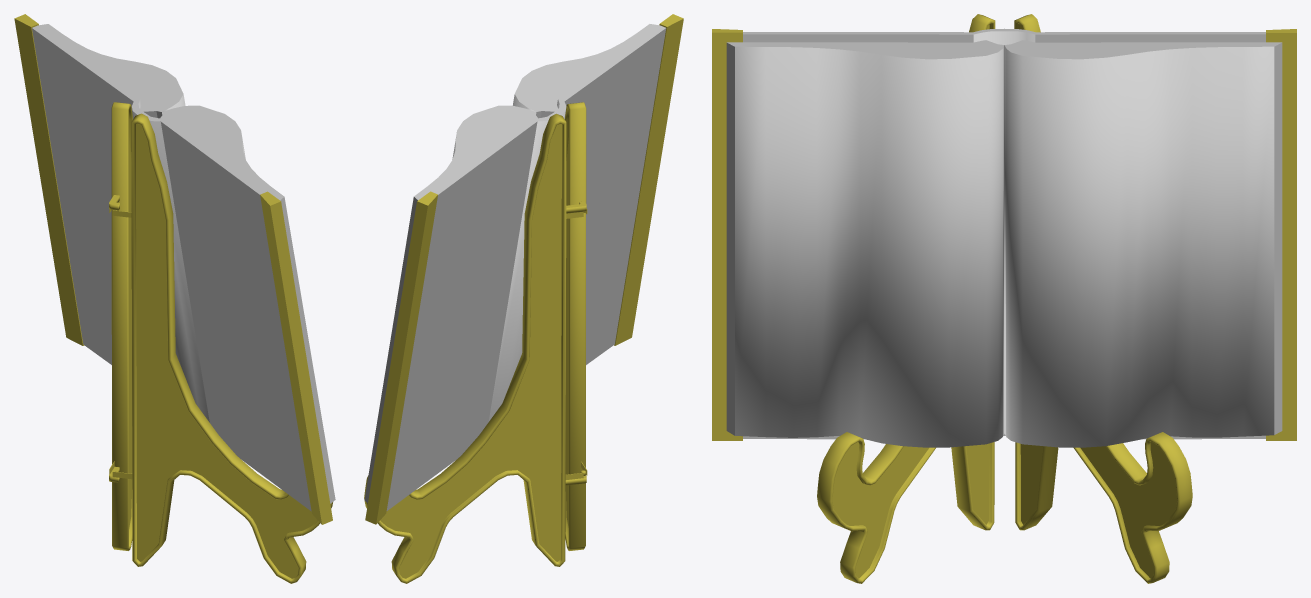
3 views of the same model, side by side, from view 1: azimuth 30°, elevation 25°; view 2: azimuth 150°, elevation 25°; view 3: azimuth 270°, elevation 25° (orthographic). The views are drawn at different scales.
Visible parts, largest first — view 1: Book_0, Book Stand_1; view 2: Book_0, Book Stand_1; view 3: Book_0, Book Stand_1.
Part boxes in pixels (x1,y1,x2,y2): Book_0: (14,14,335,524); Book Stand_1: (109,102,332,583); Book_0: (364,14,683,524); Book Stand_1: (364,102,587,583); Book_0: (712,28,1296,447); Book Stand_1: (817,14,1192,583).
Size of the model in its own units: 1.44 by 4.19 by 4.35.
